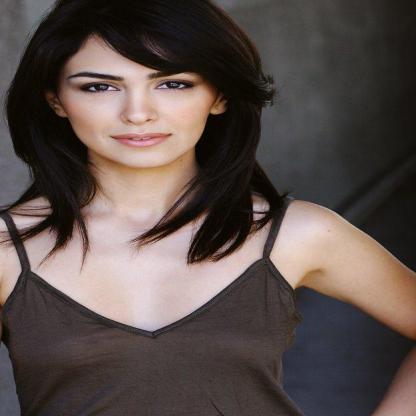long-hair: (18, 167, 286, 224)
